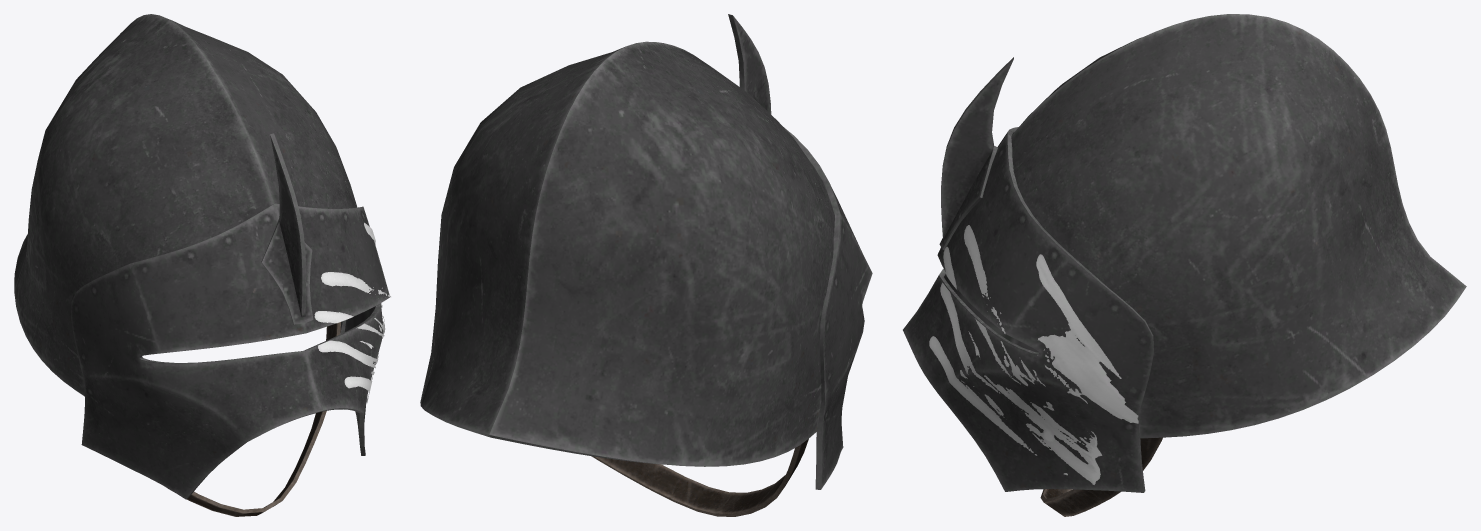
Rendered from sk_uruk_hai_helmet_spear_light_a1.fbx.
3 views of the same model, side by side, from view 1: azimuth 30°, elevation 25°; view 2: azimuth 150°, elevation 25°; view 3: azimuth 270°, elevation 25° (orthographic). The views are drawn at different scales.
Visible parts, largest first — view 1: sk_uruk_hai_helmet_spear_light_a1.2, sk_uruk_hai_helmet_spear_light_a1.0, sk_uruk_hai_helmet_spear_light_a1.1; view 2: sk_uruk_hai_helmet_spear_light_a1.2, sk_uruk_hai_helmet_spear_light_a1.1; view 3: sk_uruk_hai_helmet_spear_light_a1.2, sk_uruk_hai_helmet_spear_light_a1.0, sk_uruk_hai_helmet_spear_light_a1.1.
Part boxes in pixels (bbox=[...]): sk_uruk_hai_helmet_spear_light_a1.2: bbox=[14, 14, 389, 499]; sk_uruk_hai_helmet_spear_light_a1.0: bbox=[314, 222, 390, 402]; sk_uruk_hai_helmet_spear_light_a1.1: bbox=[168, 322, 340, 516]; sk_uruk_hai_helmet_spear_light_a1.2: bbox=[420, 14, 872, 489]; sk_uruk_hai_helmet_spear_light_a1.1: bbox=[591, 439, 808, 516]; sk_uruk_hai_helmet_spear_light_a1.2: bbox=[903, 14, 1466, 492]; sk_uruk_hai_helmet_spear_light_a1.0: bbox=[929, 225, 1138, 484]; sk_uruk_hai_helmet_spear_light_a1.1: bbox=[1040, 437, 1162, 516].
Bounding box in the file's own units: 0.209 × 0.3242 × 0.3125.
Materials: 3 (3 with a texture image).
